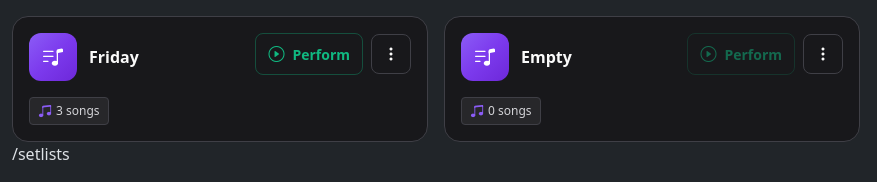
Test: SetlistList cards (spec §3) › the name is a link to the detail and clicking the card body opens it
Click the 1st icon with class "bi-music-note-list": (53, 57) [43,42,63,72]
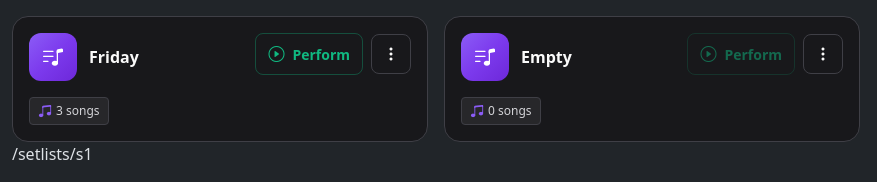
Result: the text with test id "location" reads "/setlists/s1" at [12,143,92,165]
